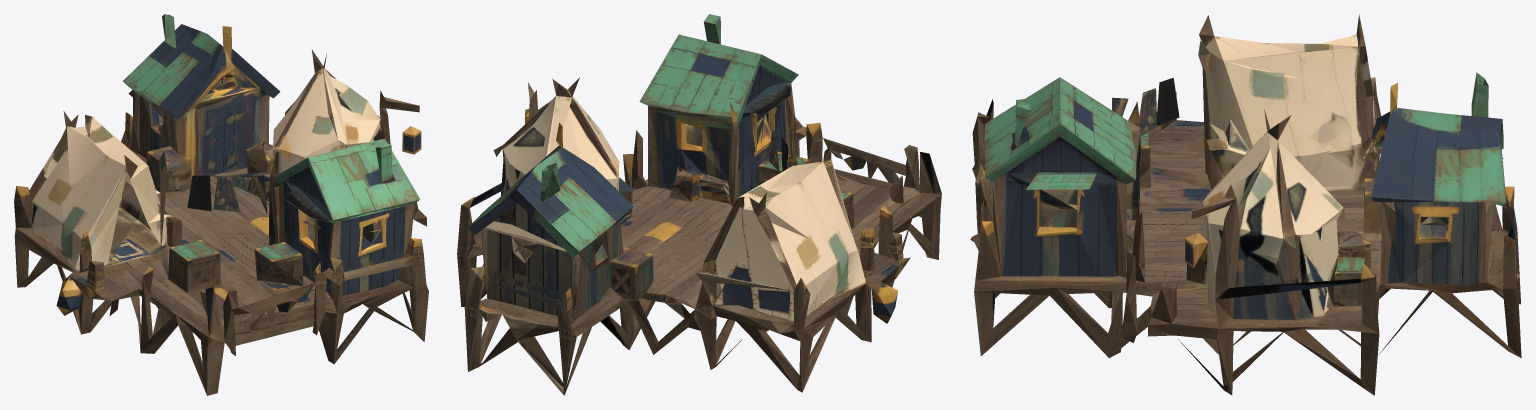
The model's file is shelters.glb.
3 renders of one model, left to right at view 1: azimuth 30°, elevation 25°; view 2: azimuth 150°, elevation 25°; view 3: azimuth 270°, elevation 25°, orthographic. The views are drawn at different scales.
Bounding box in the file's own units: 1.74 × 0.9565 × 1.89.
1 material, 1 textured.
